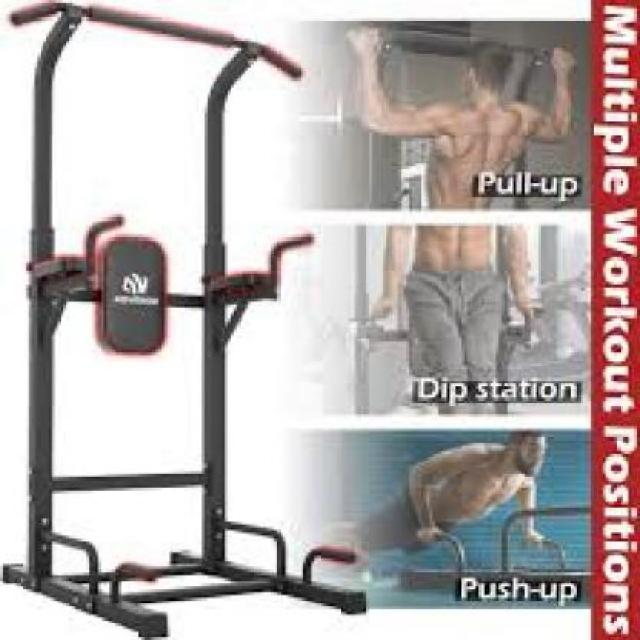chinning dipping: (8, 1, 368, 632)
